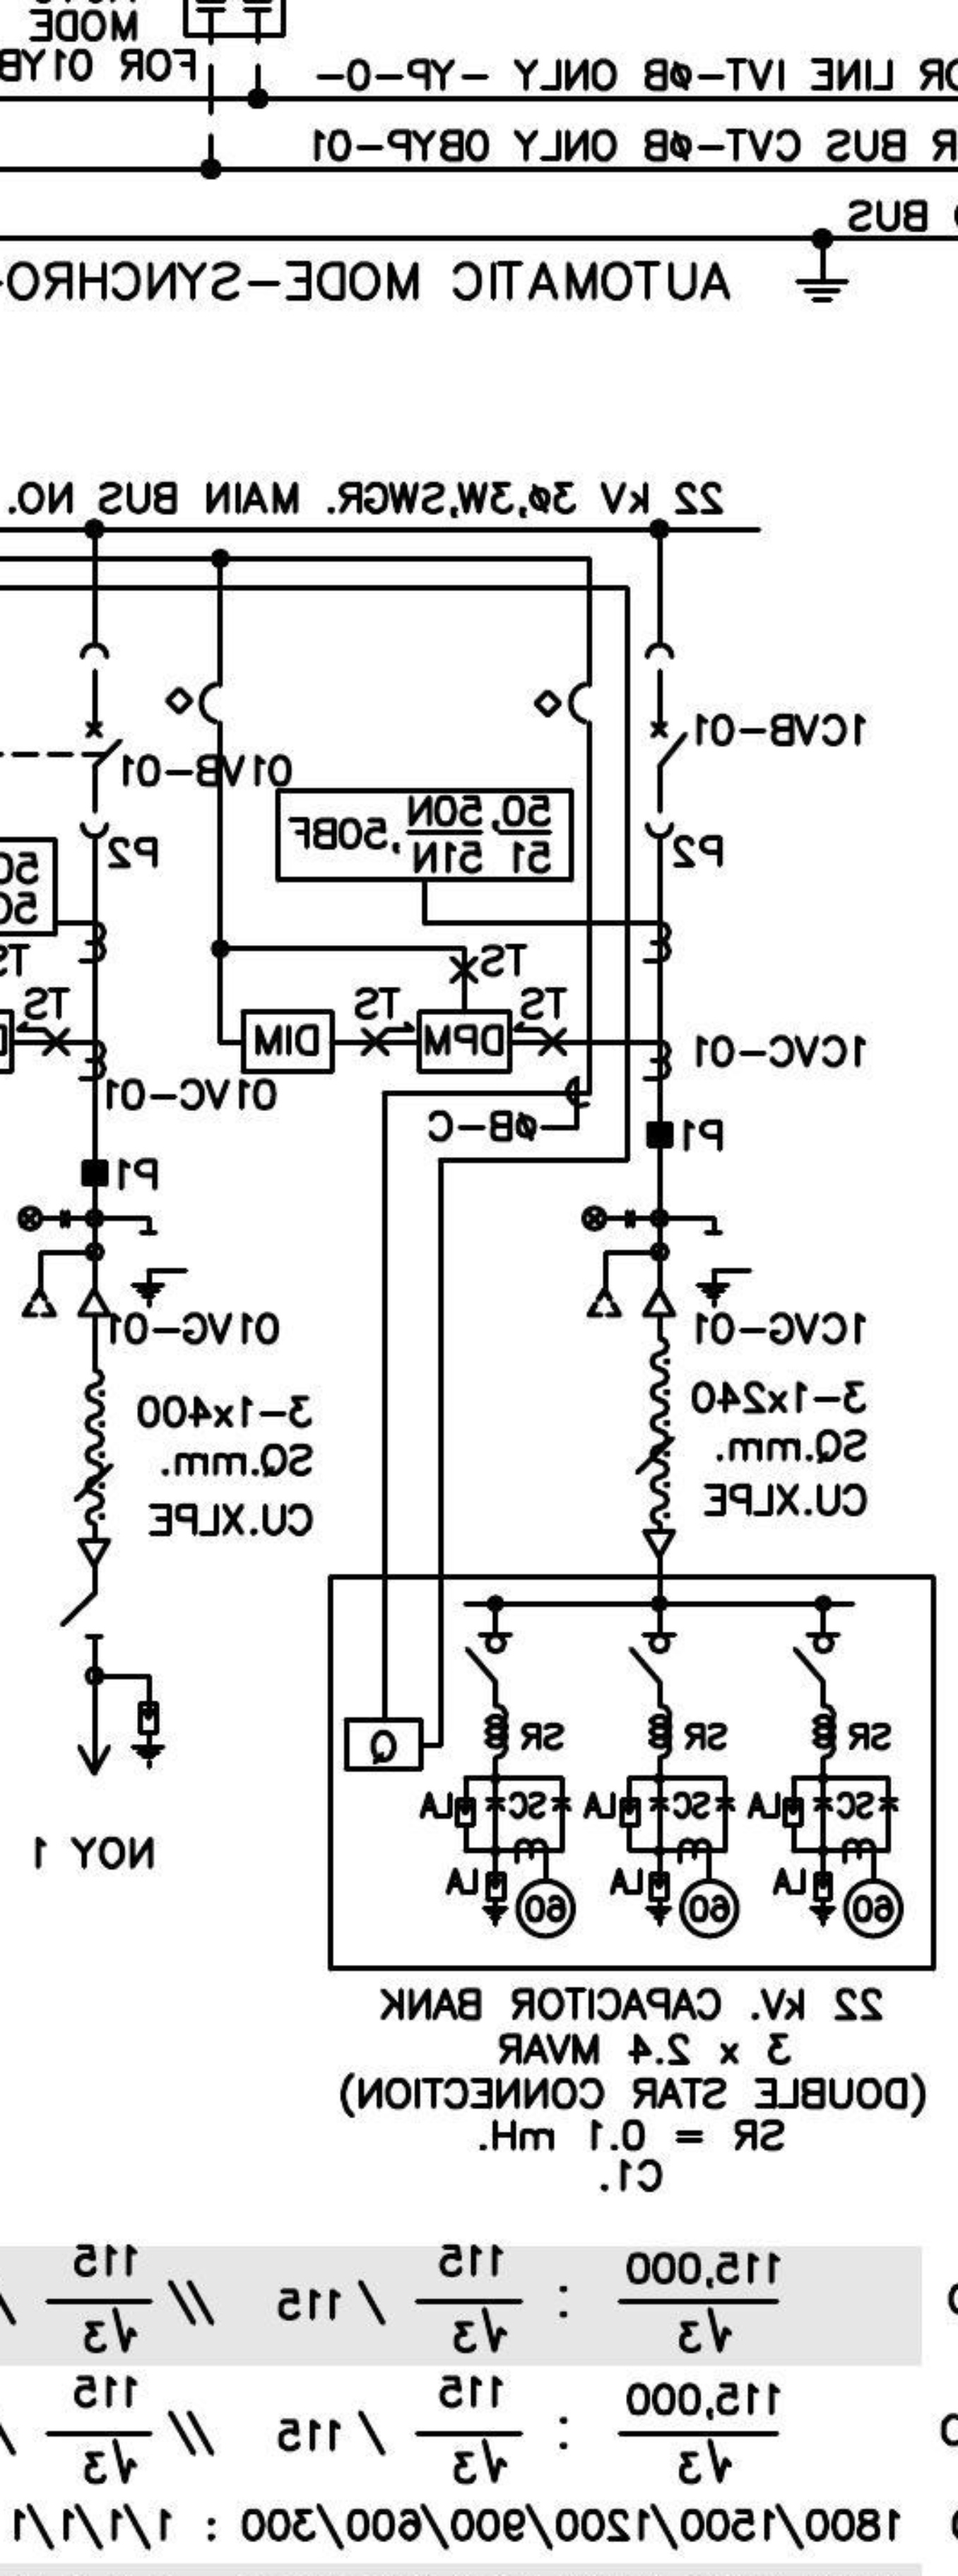22_breaker: (77, 641, 125, 841), (643, 641, 690, 841)
22_cap_bank: (325, 1572, 938, 1973)
22_ds_la_out: (59, 1592, 168, 1778)
22_gs: (693, 1229, 754, 1311), (130, 1229, 191, 1311)
22_ll: (578, 1203, 638, 1234), (15, 1203, 72, 1234)
DIM: (238, 1007, 337, 1076)
DPM: (414, 1007, 514, 1076)
Q: (342, 1717, 426, 1773)
terminator_single: (639, 1528, 677, 1559), (76, 1536, 112, 1567)
terminator_w_future: (585, 1249, 679, 1319), (21, 1249, 113, 1319)
